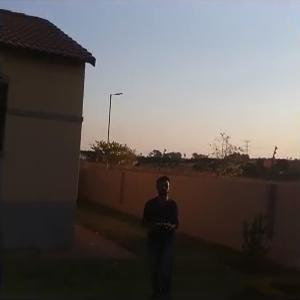follow: (137, 167, 187, 298)
